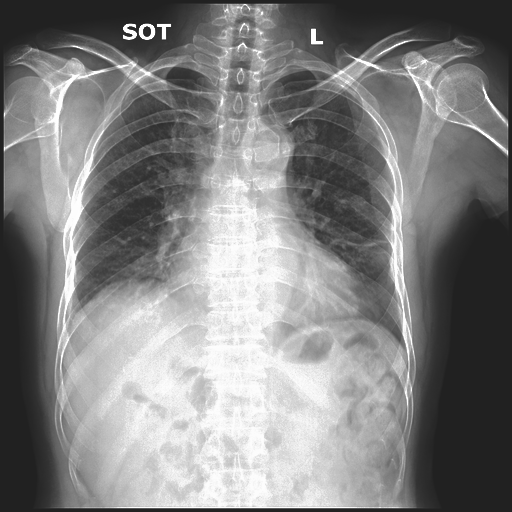Consolidation: (244, 117, 294, 172)
Nodule/Mass: (165, 242, 364, 327)
Pneumothorax: (330, 236, 389, 247)
